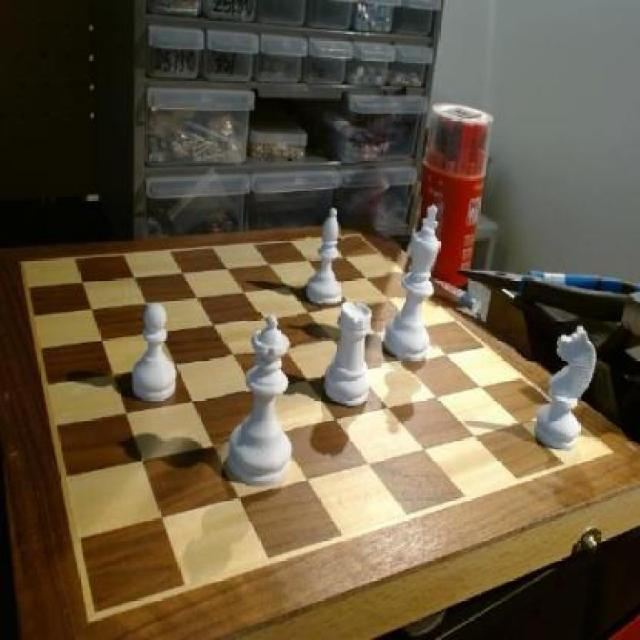black-rook: (306, 204, 346, 308)
white-king: (385, 195, 443, 374), (532, 323, 600, 457)
white-knight: (125, 298, 182, 408)
white-pawn: (225, 311, 297, 488)
white-queen: (322, 297, 374, 415)
